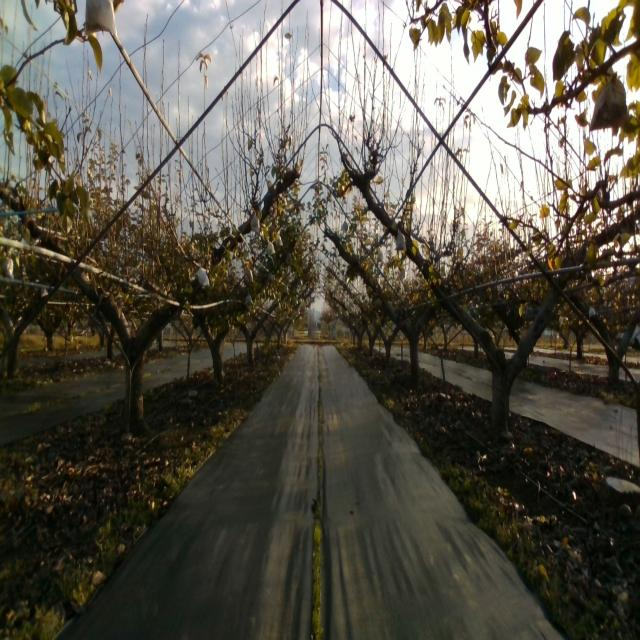pearbags: (588, 71, 631, 133), (85, 0, 116, 35), (198, 262, 210, 290), (394, 229, 406, 252), (250, 210, 260, 234)
